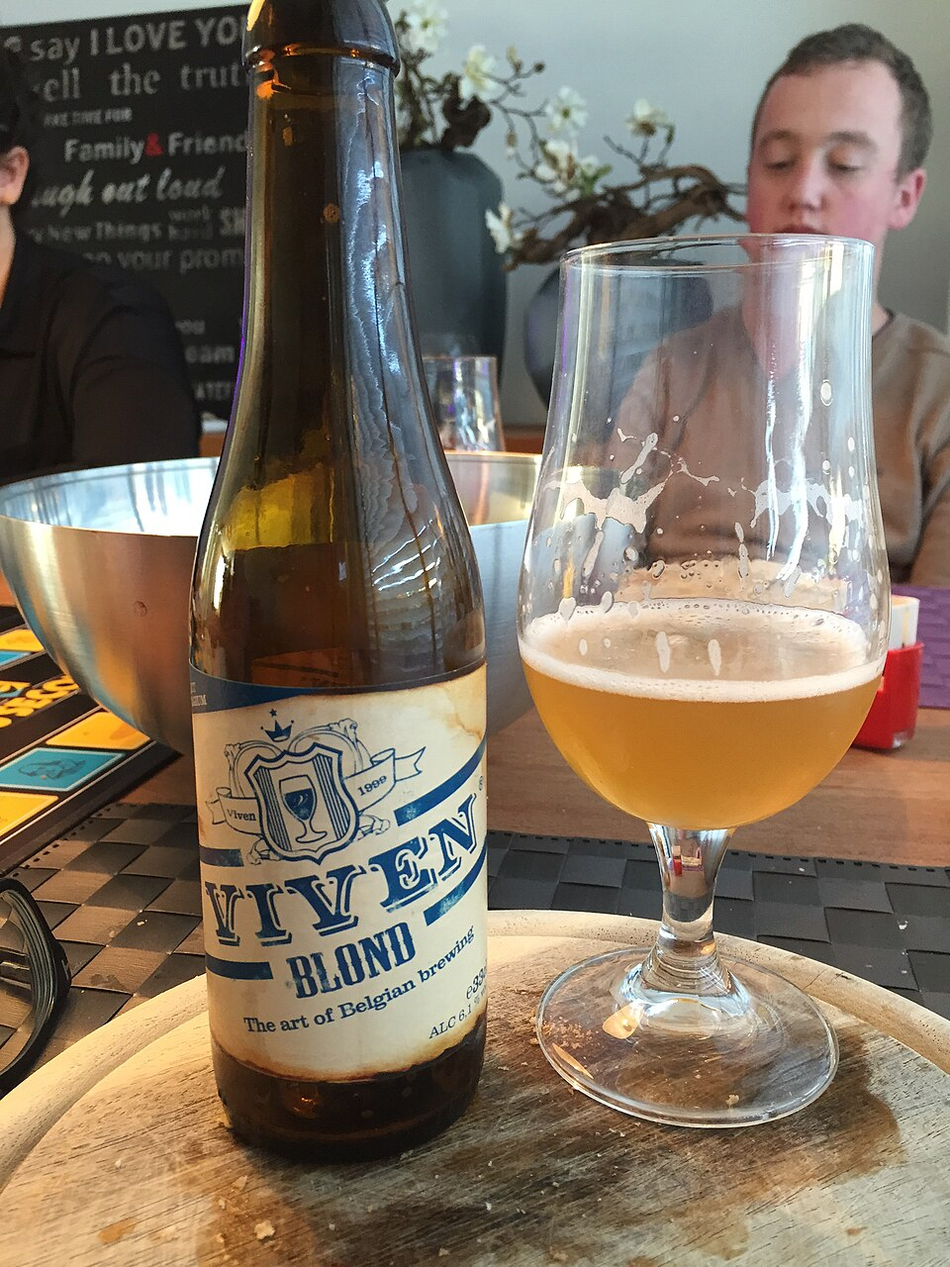beer-bottle: (183, 3, 495, 1183)
